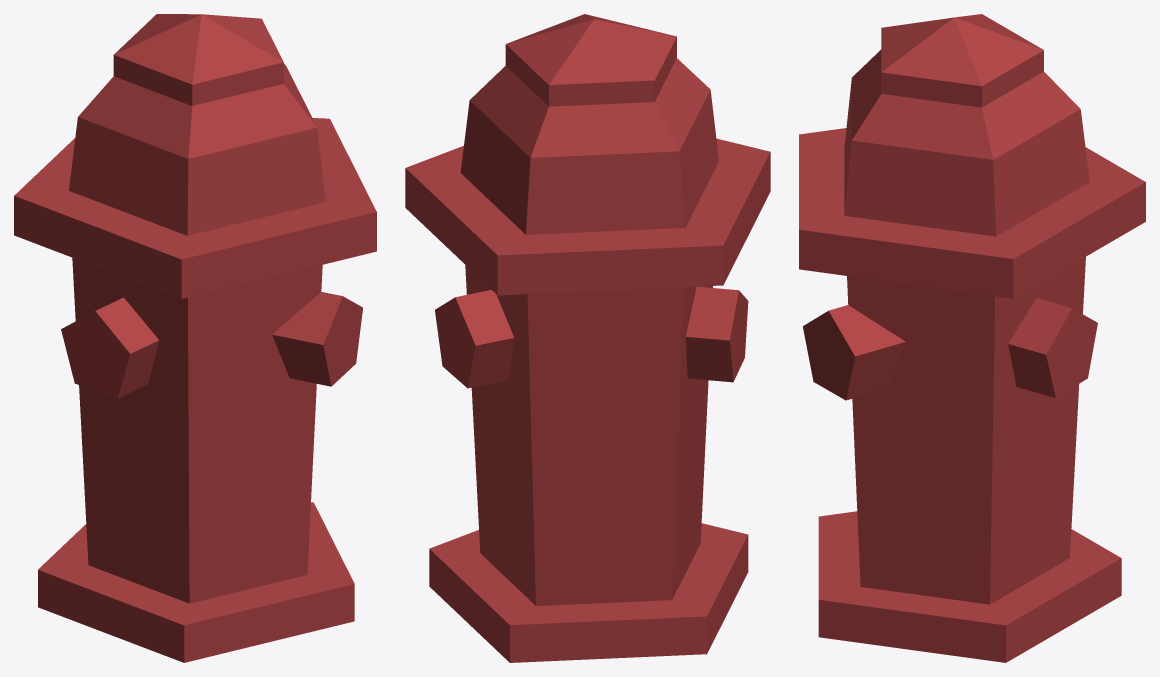
File: hydrant.fbx
The picture shows the model from 3 angles, left to right: view 1: azimuth 30°, elevation 25°; view 2: azimuth 150°, elevation 25°; view 3: azimuth 270°, elevation 25°; orthographic projection.
Visible parts, largest first — view 1: hydrant; view 2: hydrant; view 3: hydrant.
Boxes of the visible parts, x1,y1,x2,y2 form: hydrant: [14, 14, 376, 662]; hydrant: [405, 14, 770, 662]; hydrant: [799, 14, 1145, 662].
Bounding box in the file's own units: 87.13 × 152 × 82.87.
